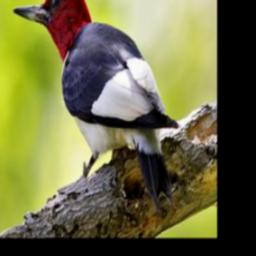Woodpecker: (14, 0, 178, 212)
